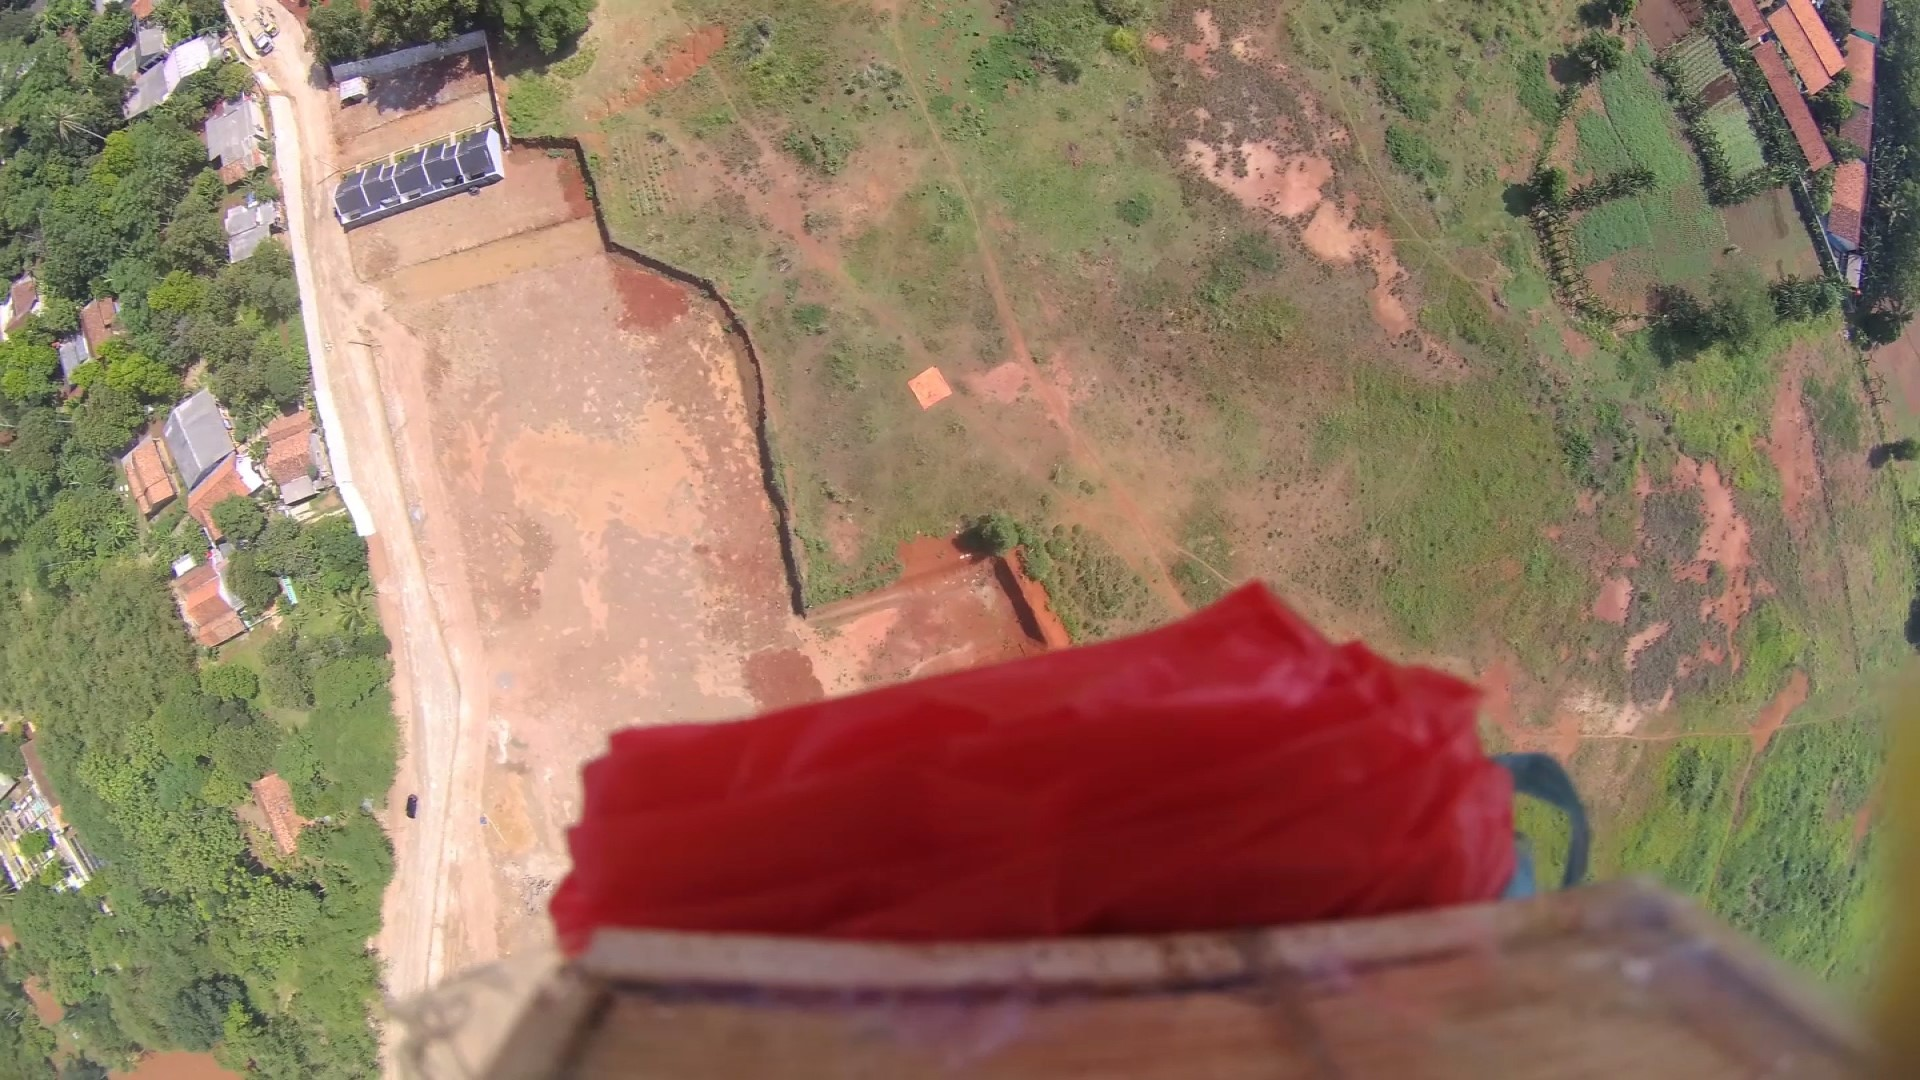Orange Dropzone: (905, 363, 956, 413)
